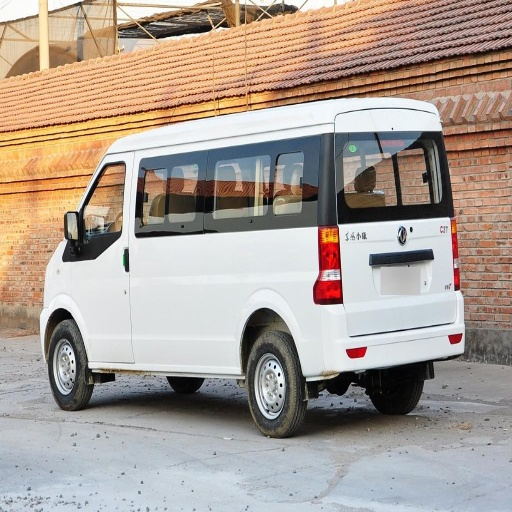trunk: (177, 232, 315, 361), (313, 220, 453, 334)
